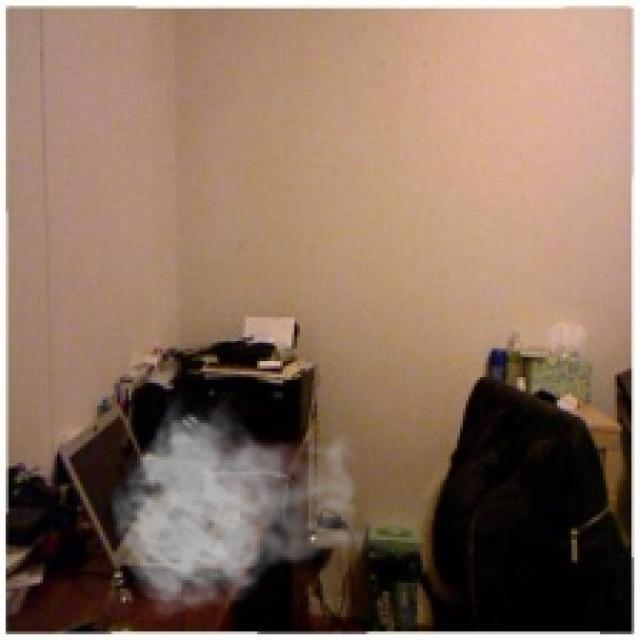smoke: (109, 394, 377, 620)
